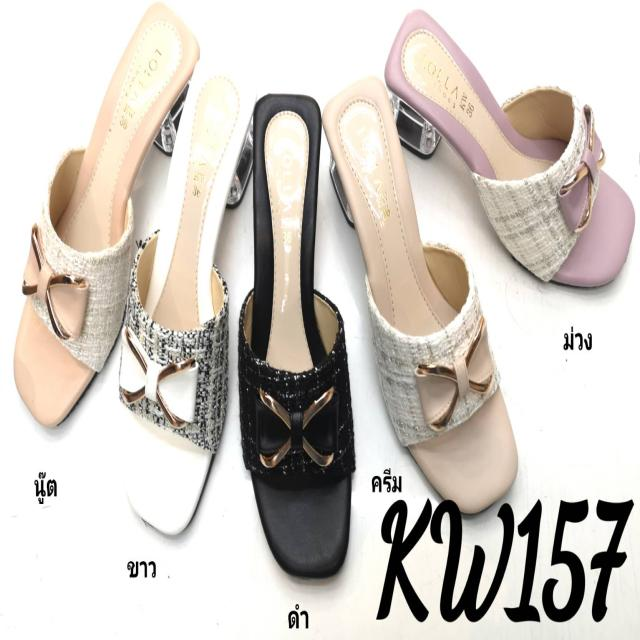black: (247, 91, 350, 577)
cream: (325, 80, 518, 513)
nood: (16, 12, 198, 426)
purple: (390, 13, 632, 298)
white: (128, 65, 250, 531)
